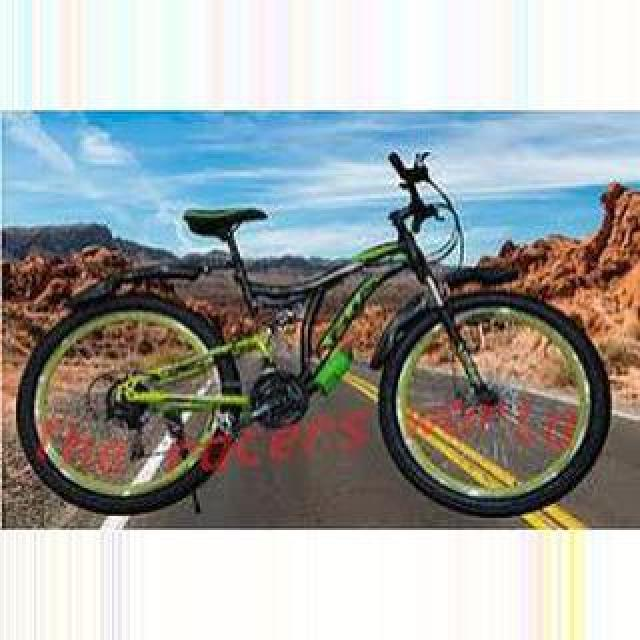Person: (16, 150, 612, 516)
